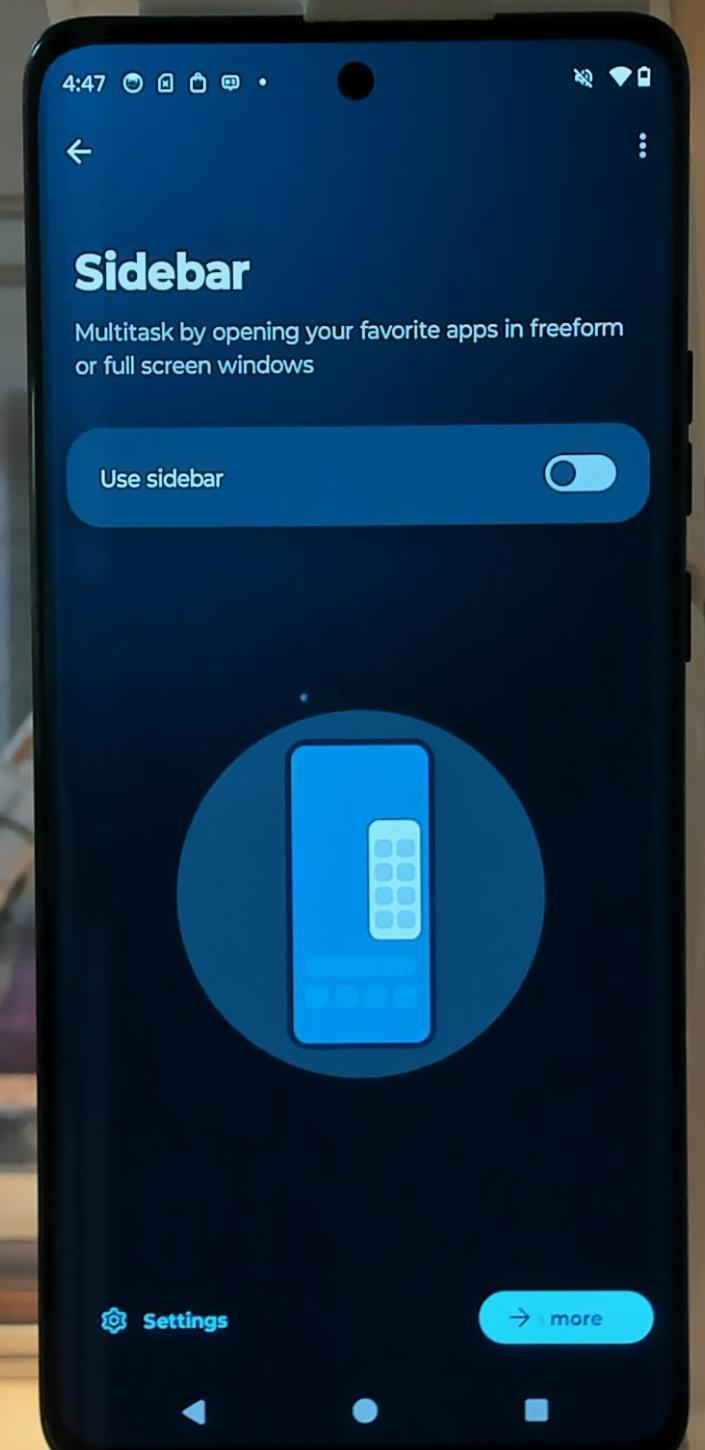Checkbox: (88, 444, 629, 502)
